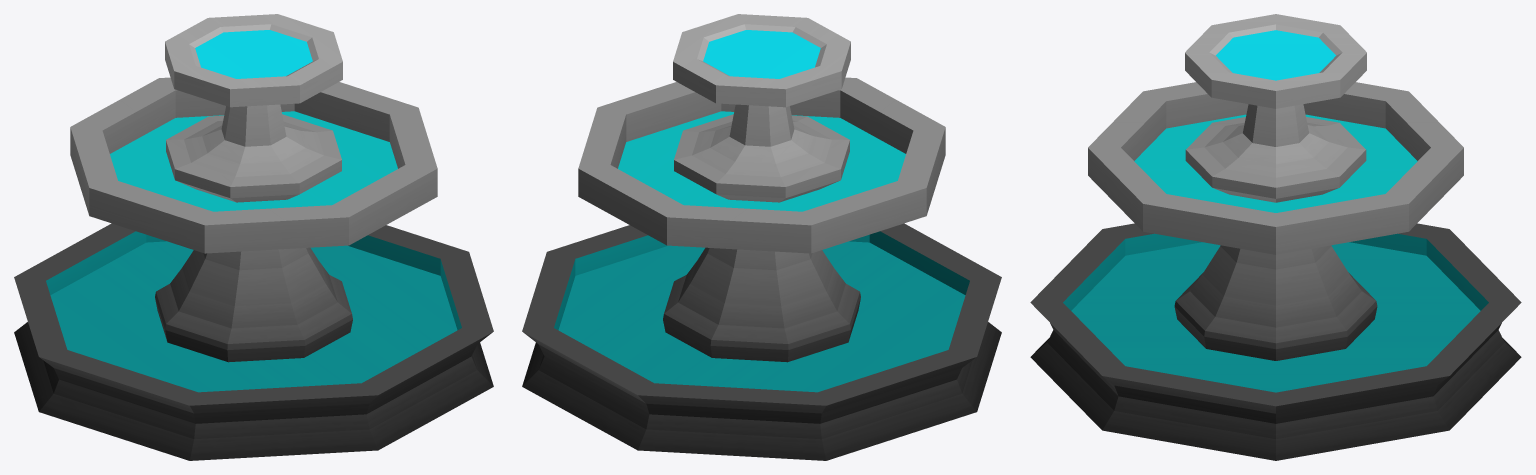
Rendered from Fuente.fbx.
3 views of the same model, side by side, from view 1: azimuth 30°, elevation 25°; view 2: azimuth 150°, elevation 25°; view 3: azimuth 270°, elevation 25° (orthographic).
Visible parts, largest first — view 1: Fuente.001; view 2: Fuente.001; view 3: Fuente.001.
Boxes of the visible parts, <box> form: Fuente.001: <box>14,14,493,460</box>; Fuente.001: <box>522,14,1001,460</box>; Fuente.001: <box>1030,14,1521,460</box>.
Bounding box in the file's own units: 11.57 × 7.92 × 11.57.
Materials: 1 (1 with a texture image).
